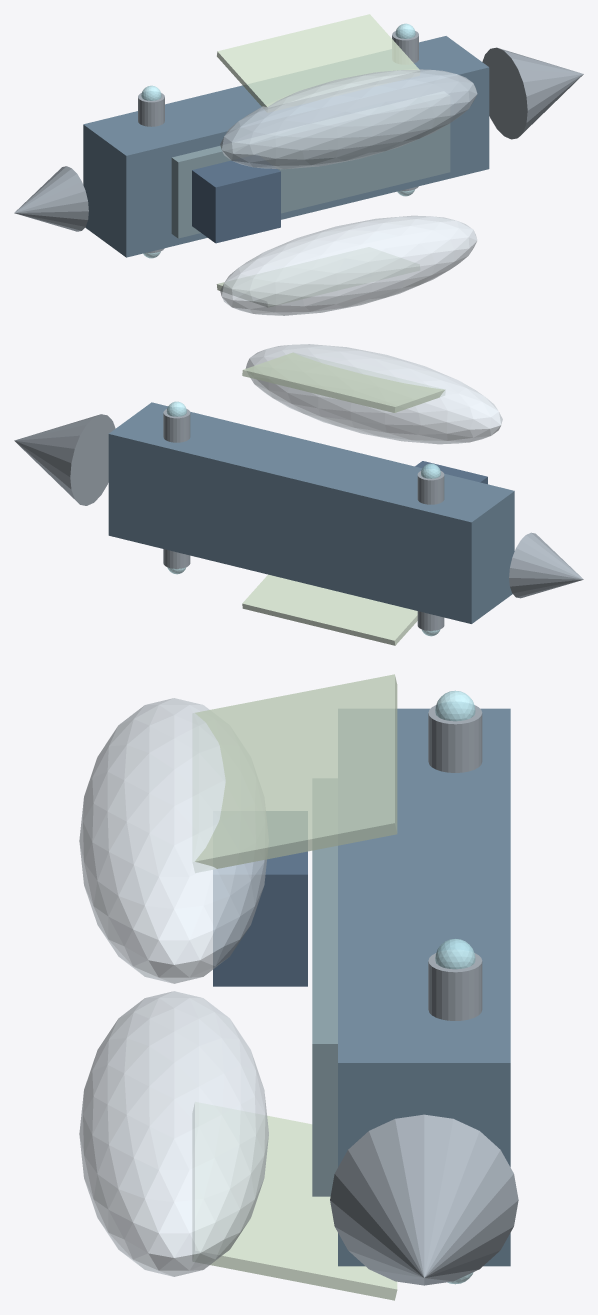
File: SKYSHIP_04_SKYHOOK_CUTTER_skyhook_cutter.glb
3 renders of one model, top to bottom at view 1: azimuth 30°, elevation 25°; view 2: azimuth 150°, elevation 25°; view 3: azimuth 270°, elevation 25°, orthographic. The views are drawn at different scales.
Parts seen in each view (by area): view 1: aetherwood_hull, upper_deck, left_aether_cell, right_aether_cell, right_lift_sail, command_cabin, left_lift_sail, forward_ram, stern_finial, right_thruster_-0.82, right_thruster_0.82; view 2: aetherwood_hull, right_aether_cell, left_lift_sail, right_lift_sail, forward_ram, stern_finial, right_thruster_0.82, right_thruster_-0.82, command_cabin, left_thruster_-0.82, left_thruster_0.82; view 3: aetherwood_hull, left_aether_cell, right_aether_cell, right_lift_sail, forward_ram, left_lift_sail, command_cabin, upper_deck, right_thruster_-0.82, right_thruster_0.82, right_thruster_glow_-0.82, right_thruster_glow_0.82.
Boxes of the visible parts, left/top/right/bottom form: aetherwood_hull: left=83, top=36, right=489, bottom=257; upper_deck: left=171, top=91, right=450, bottom=238; left_aether_cell: left=220, top=215, right=477, bottom=315; right_aether_cell: left=220, top=69, right=477, bottom=169; right_lift_sail: left=217, top=14, right=419, bottom=112; command_cabin: left=192, top=154, right=280, bottom=243; left_lift_sail: left=216, top=247, right=419, bottom=306; forward_ram: left=482, top=47, right=583, bottom=139; stern_finial: left=14, top=166, right=88, bottom=231; right_thruster_-0.82: left=138, top=91, right=164, bottom=126; right_thruster_0.82: left=392, top=29, right=418, bottom=64; aetherwood_hull: left=108, top=402, right=514, bottom=623; right_aether_cell: left=245, top=344, right=502, bottom=444; left_lift_sail: left=242, top=574, right=417, bottom=645; right_lift_sail: left=242, top=352, right=445, bottom=412; forward_ram: left=14, top=414, right=115, bottom=505; stern_finial: left=509, top=532, right=583, bottom=598; right_thruster_0.82: left=163, top=407, right=190, bottom=442; right_thruster_-0.82: left=417, top=469, right=444, bottom=504; command_cabin: left=415, top=461, right=487, bottom=484; left_thruster_-0.82: left=417, top=611, right=444, bottom=630; left_thruster_0.82: left=163, top=549, right=190, bottom=568; aetherwood_hull: left=338, top=708, right=510, bottom=1266; left_aether_cell: left=79, top=991, right=268, bottom=1276; right_aether_cell: left=79, top=698, right=266, bottom=983; right_lift_sail: left=192, top=674, right=397, bottom=872; forward_ram: left=330, top=1114, right=518, bottom=1285; left_lift_sail: left=192, top=1102, right=397, bottom=1300; command_cabin: left=213, top=811, right=307, bottom=986; upper_deck: left=312, top=779, right=337, bottom=1196; right_thruster_-0.82: left=428, top=702, right=482, bottom=772; right_thruster_0.82: left=428, top=950, right=482, bottom=1020; right_thruster_glow_-0.82: left=435, top=690, right=475, bottom=721; right_thruster_glow_0.82: left=435, top=938, right=475, bottom=969.
Size of the model in its own units: 3.66 by 1.47 by 1.22.
